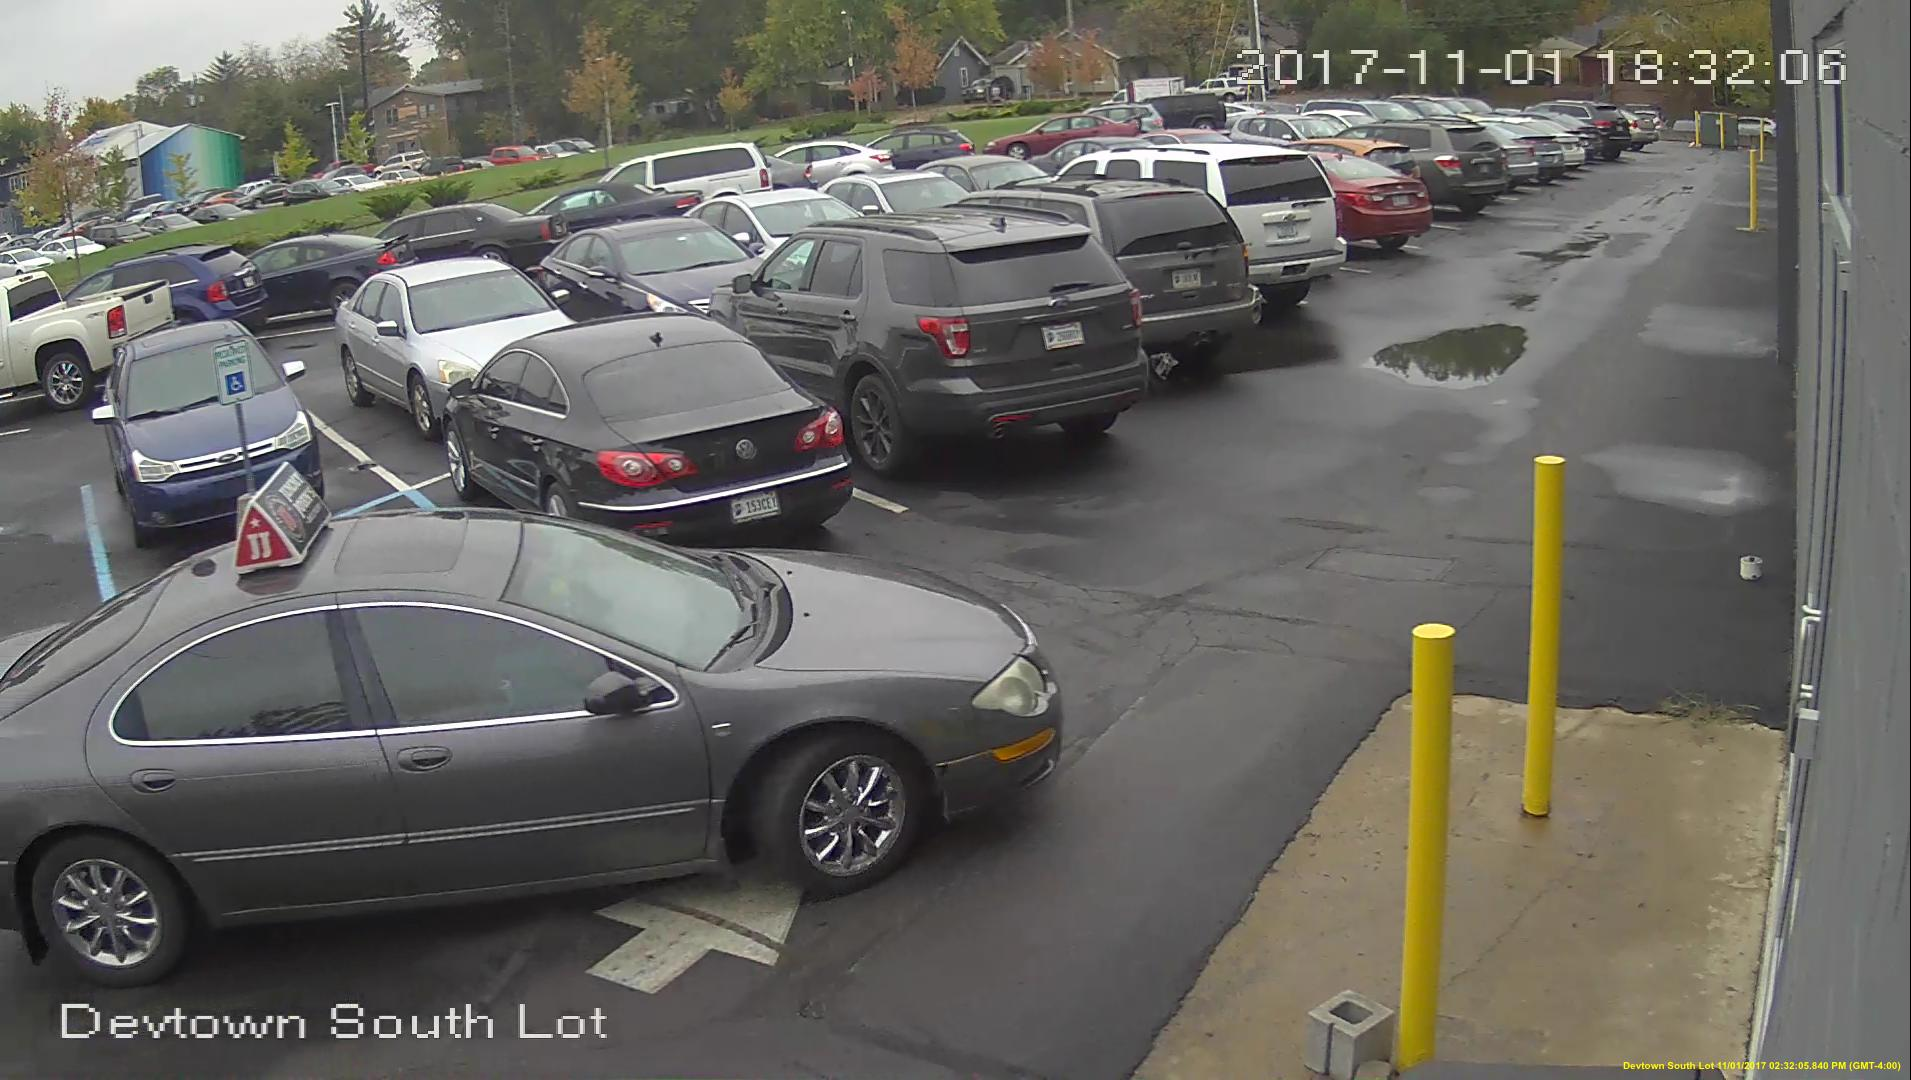jimmy_johns: (230, 457, 322, 575)
